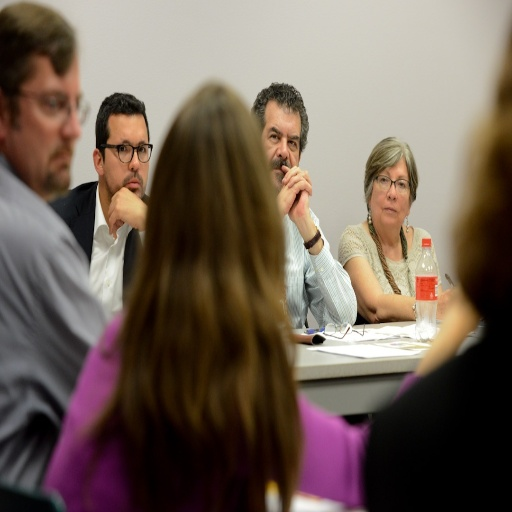hand: (272, 150, 339, 265), (105, 182, 148, 240), (280, 162, 309, 226), (277, 168, 313, 219), (433, 283, 451, 320)
